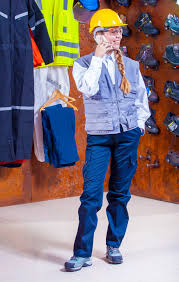Person_wearing_helmet: (83, 6, 125, 43)
